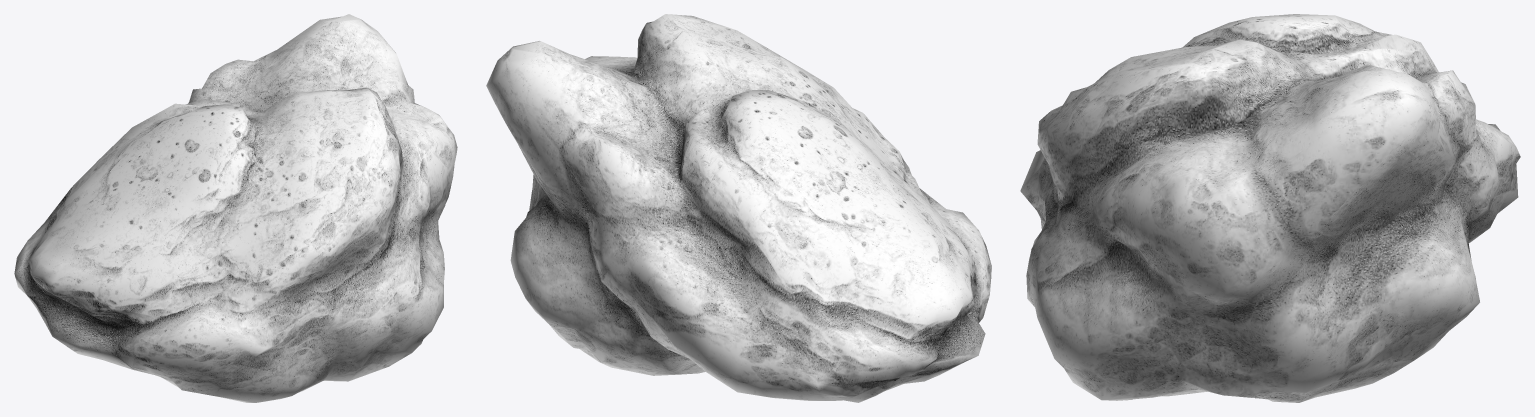
The model's file is rock.gltf.
3 views of the same model, side by side, from view 1: azimuth 30°, elevation 25°; view 2: azimuth 150°, elevation 25°; view 3: azimuth 270°, elevation 25° (orthographic). The views are drawn at different scales.
Parts seen in each view (by area): view 1: Rock; view 2: Rock; view 3: Rock.
Boxes of the visible parts, <box> form: Rock: <box>14,14,457,402</box>; Rock: <box>486,14,991,402</box>; Rock: <box>1020,14,1520,402</box>.
Size of the model in its own units: 104 by 70.08 by 84.45.
Materials: 1 (1 with a texture image).
